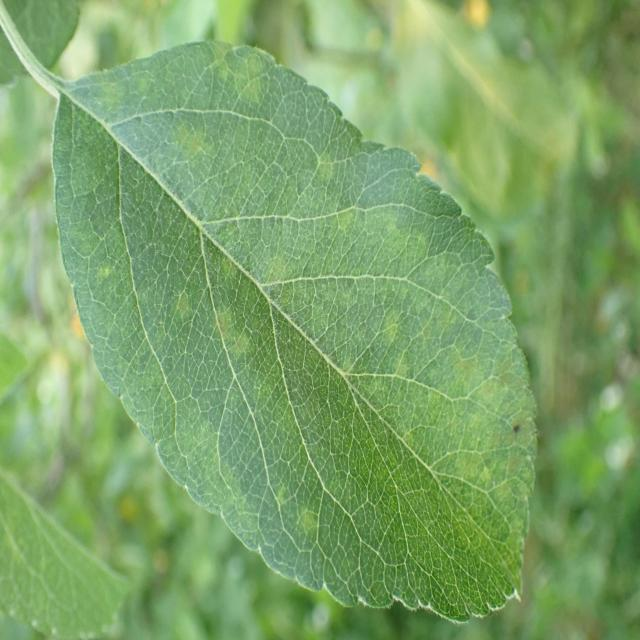scab: (60, 52, 527, 601)
